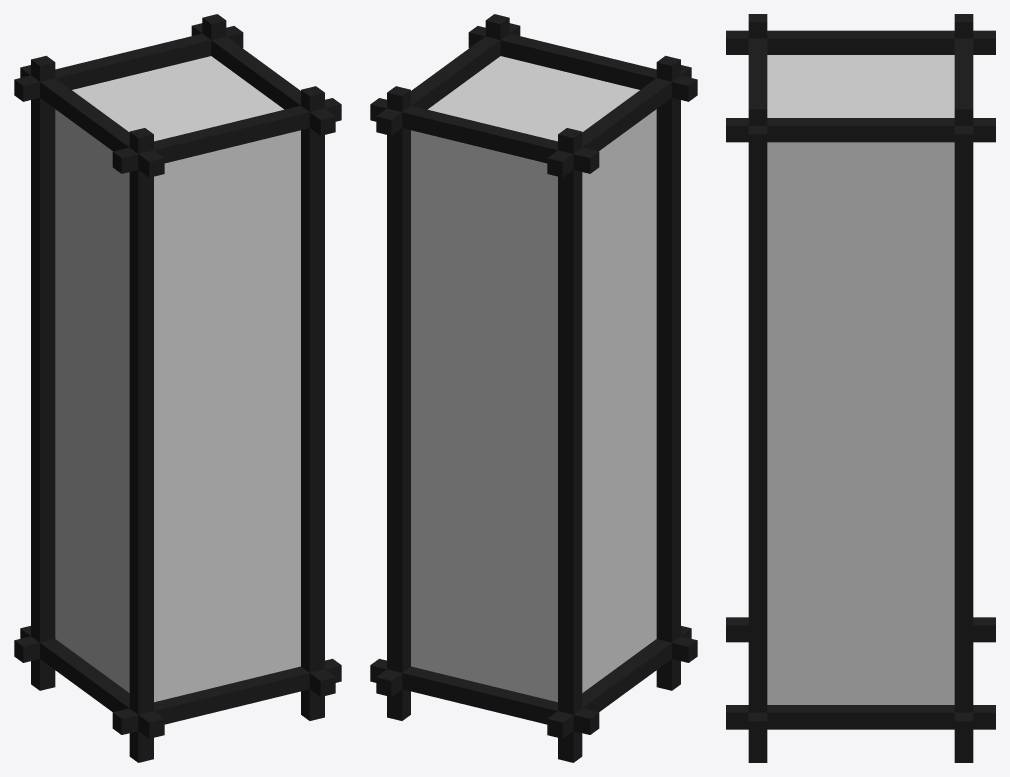
File: Shrine_Lamp_1.fbx
3 renders of one model, left to right at view 1: azimuth 30°, elevation 25°; view 2: azimuth 150°, elevation 25°; view 3: azimuth 270°, elevation 25°, orthographic. The views are drawn at different scales.
Parts seen in each view (by area): view 1: Shire_Lamp_1; view 2: Shire_Lamp_1; view 3: Shire_Lamp_1.
Boxes of the visible parts, x1,y1,x2,y2 form: Shire_Lamp_1: [14, 14, 341, 762]; Shire_Lamp_1: [370, 14, 697, 762]; Shire_Lamp_1: [726, 14, 995, 762].
Bounding box in the file's own units: 40.63 × 110 × 41.25.
